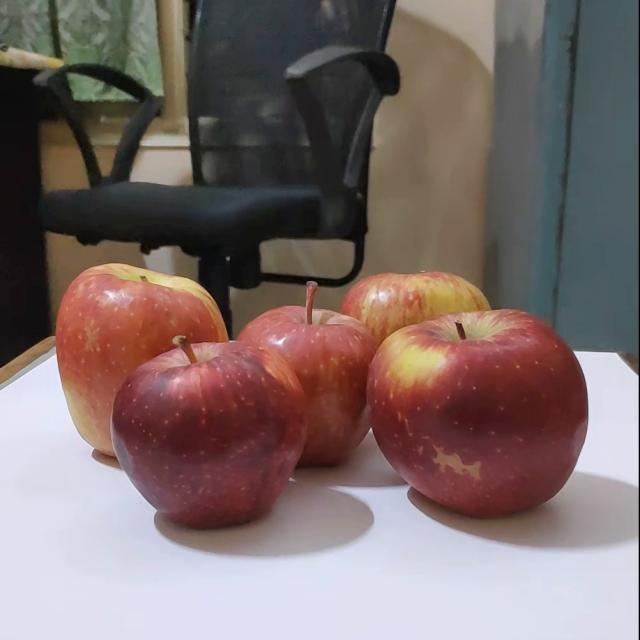apple: (348, 310, 576, 522), (99, 345, 294, 528), (44, 266, 213, 464), (218, 286, 370, 472), (324, 261, 495, 386)
